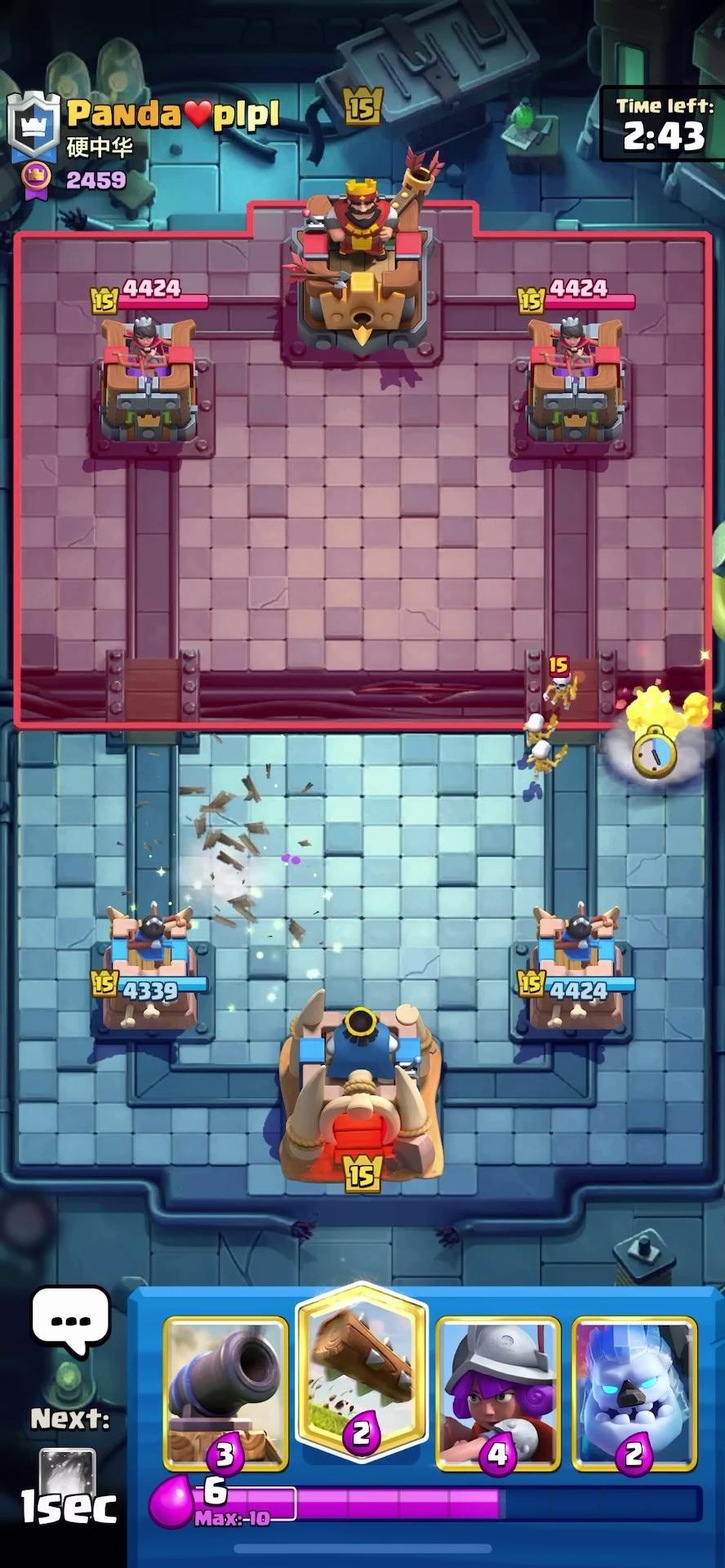hog_rider: (614, 672, 714, 753)
skeletons: (512, 704, 569, 784)
